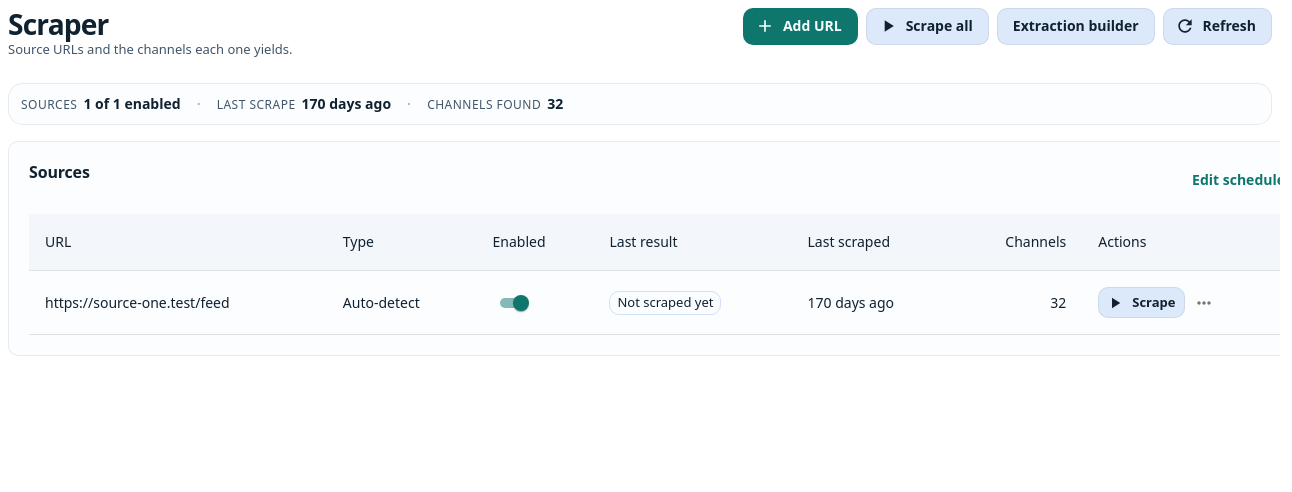
it: Scraper › summarises sources in one status line and labels the row actions
Expected: the message named "Source status" shows "1 of 1 enabled", [83,94,181,112]
Expected: the message named "Source status" shows "32", [547,94,563,112]
Click the button named "More actions for https://source-one.test/feed".
click(1204, 303)  # box [1190,288,1220,318]
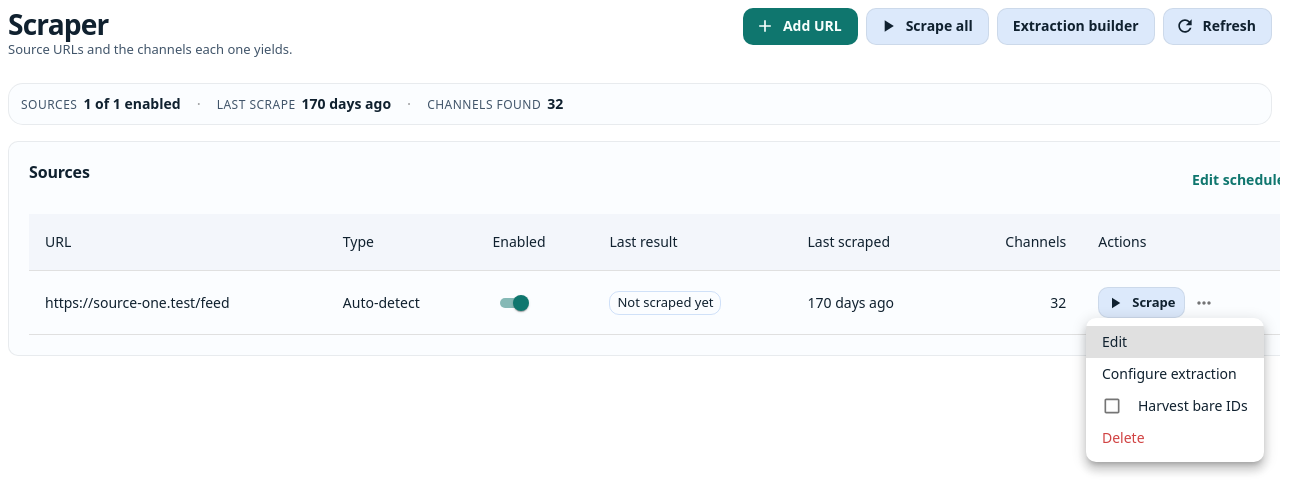
Expected: the menu item "Edit" is shown, [1086,326,1264,358]
Expected: the menu item "Delete" is shown, [1102,428,1145,447]
